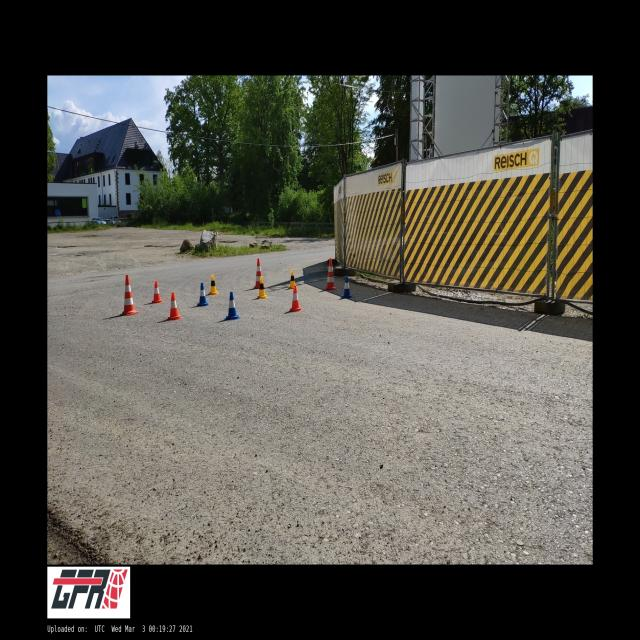blue_cone: (225, 292, 241, 320), (197, 283, 209, 306), (341, 276, 352, 298)
large_orange_cone: (122, 274, 138, 316), (324, 258, 336, 290), (253, 258, 265, 289)
orange_cone: (168, 292, 182, 321), (290, 286, 302, 312), (152, 280, 164, 303)
yellow_cone: (256, 276, 268, 299), (209, 274, 219, 295), (288, 271, 296, 288)
